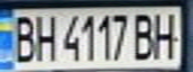1: (96, 10, 115, 61), (78, 11, 96, 62)
4: (60, 10, 81, 62)
7: (109, 10, 133, 61)
B: (6, 11, 39, 63), (130, 10, 160, 61)
H: (151, 9, 181, 61), (30, 11, 57, 63)
